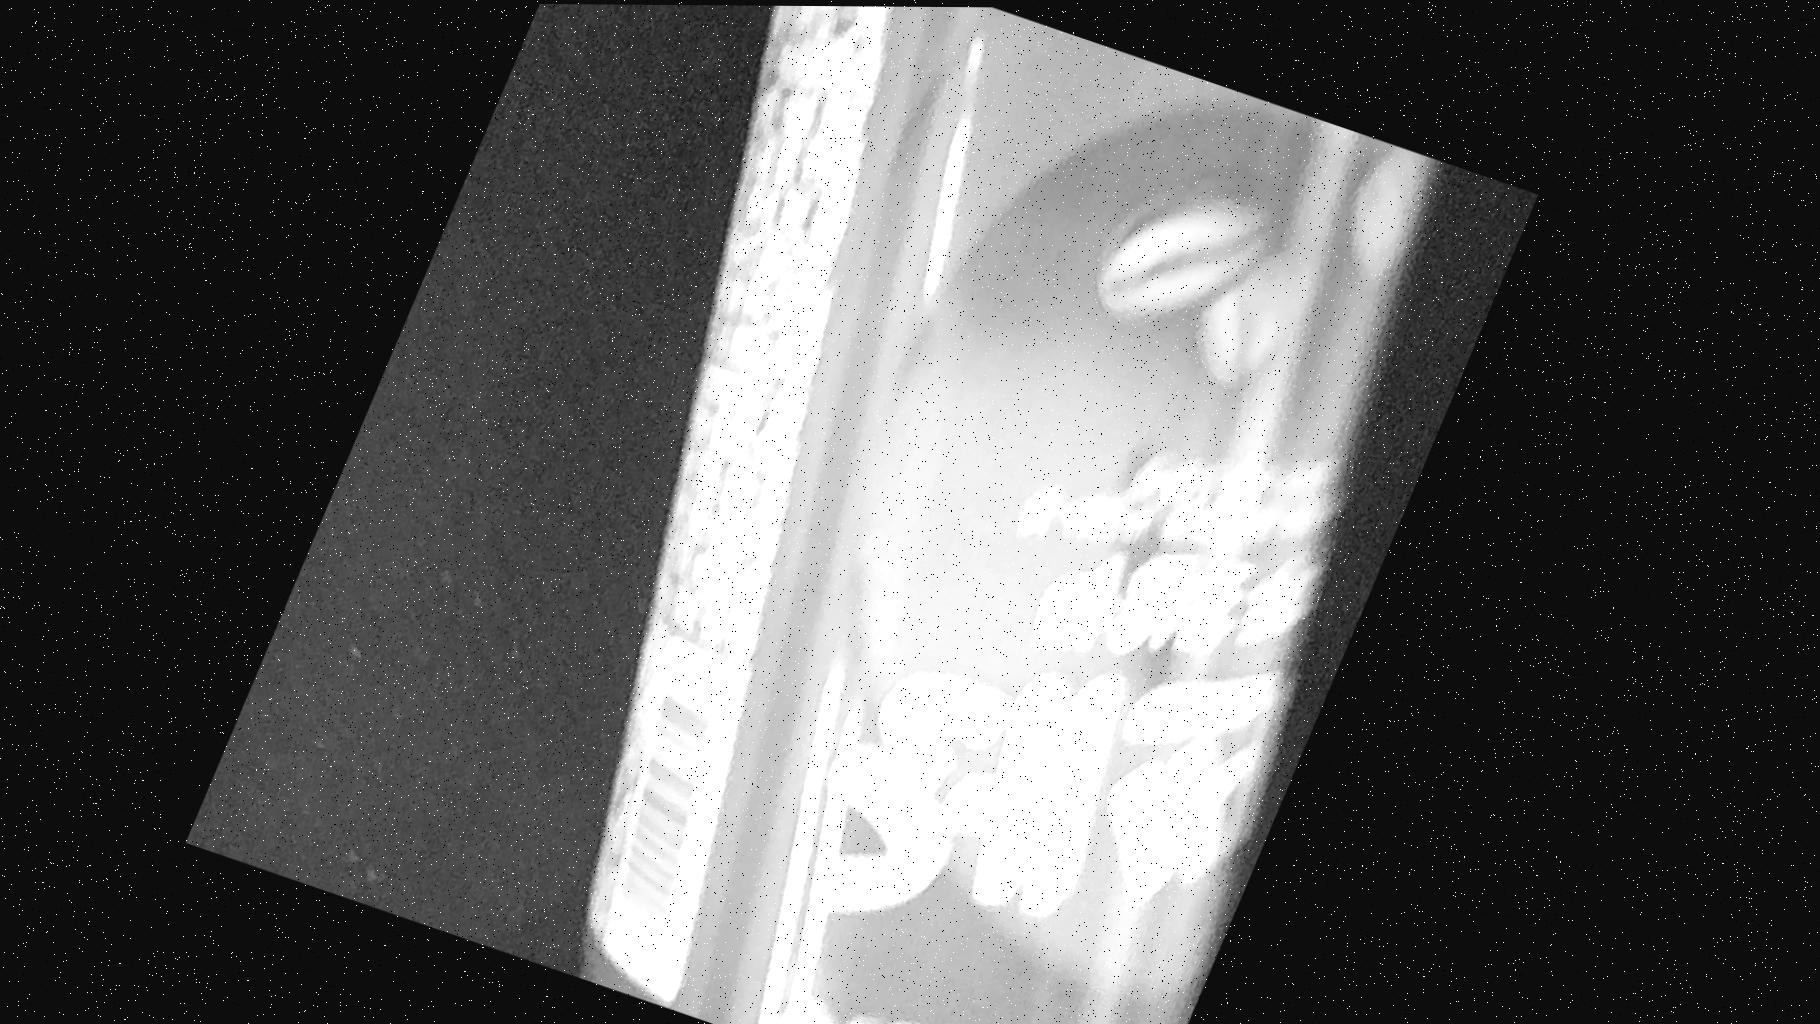letsbe: (364, 3, 1555, 1024)
